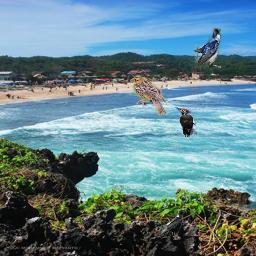Crow: (161, 208, 185, 240)
Sparrow: (130, 76, 167, 116)
Swallow: (194, 28, 221, 68)
Woodpecker: (174, 107, 197, 137)
